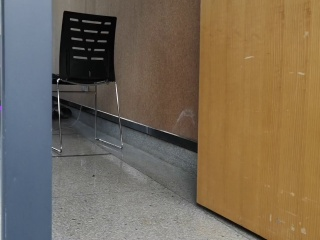room: (2, 3, 309, 234)
